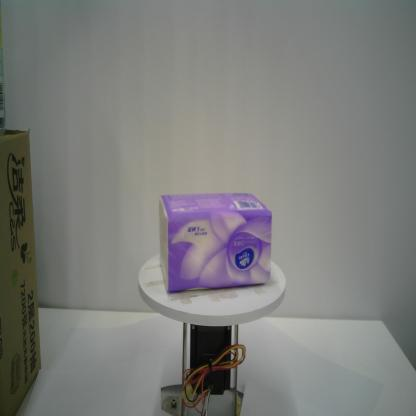Tissue: (157, 189, 273, 296)
